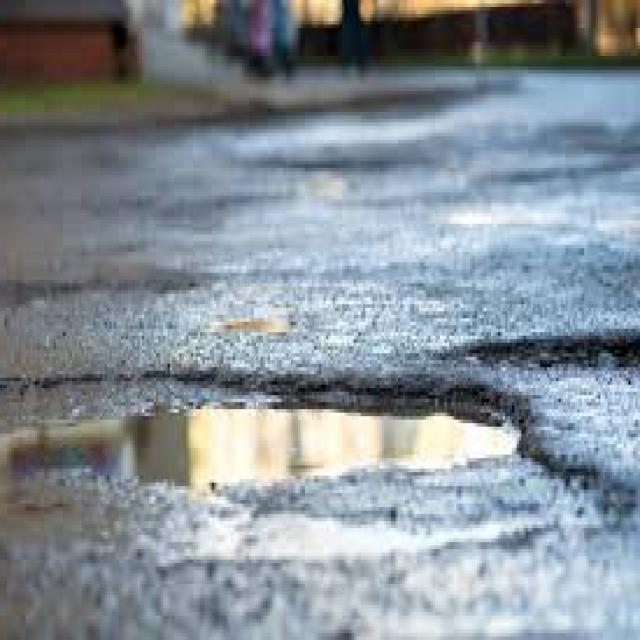Pothole: (0, 363, 640, 594)
